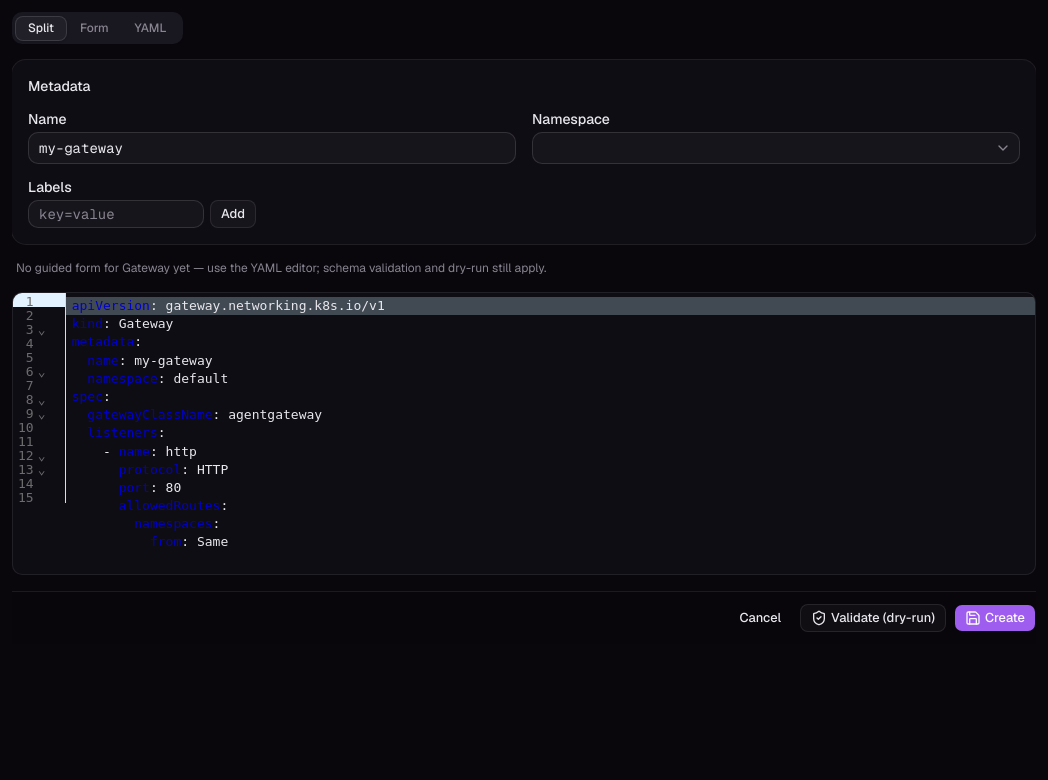
it: ResourceEditor dry-run › shows the success line when the API server accepts the manifest
Click the button "Validate (dry-run)" at (873, 618), box x1=800 y1=604 x2=946 y2=632
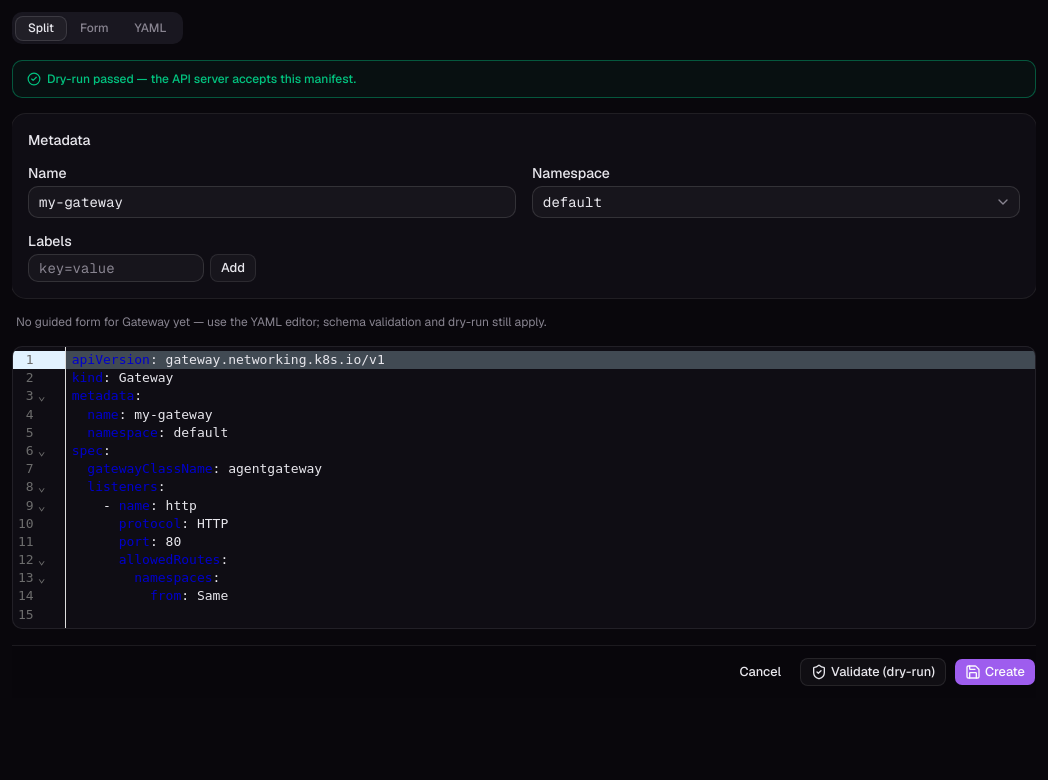
Expected: the text "Dry-run passed — the API server accepts this manifest." is shown, x1=12 y1=60 x2=1036 y2=98
